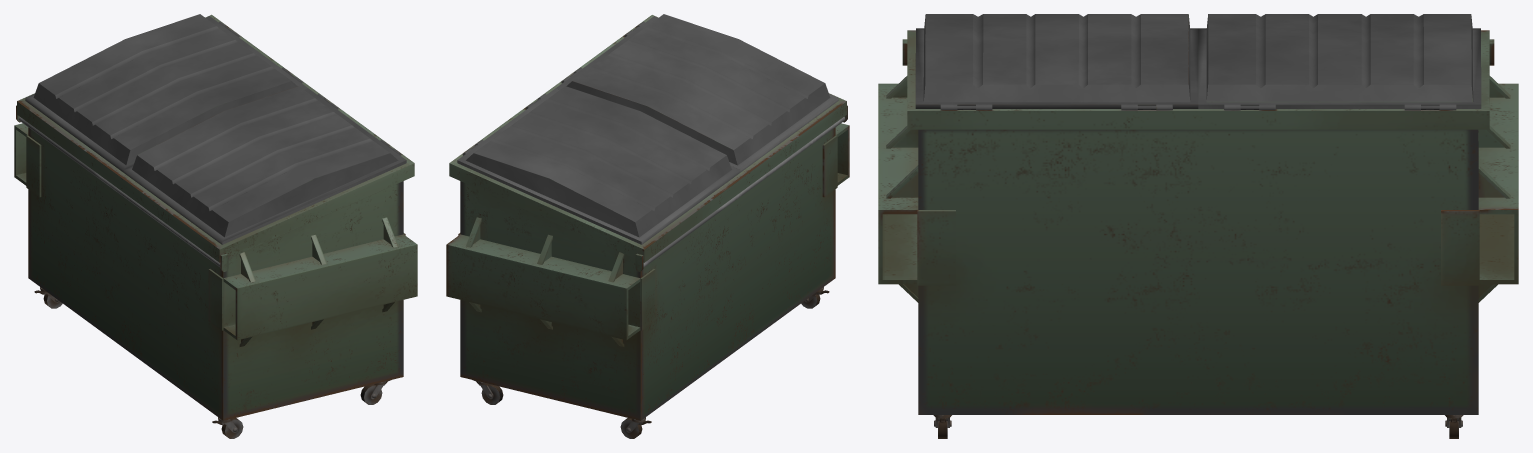
The model's file is TLRContainer.fbx.
3 renders of one model, left to right at view 1: azimuth 30°, elevation 25°; view 2: azimuth 150°, elevation 25°; view 3: azimuth 270°, elevation 25°, orthographic. The views are drawn at different scales.
Parts seen in each view (by area): view 1: Container, KlepRContainer, KlepLContainer, Wheel2, Wheel1; view 2: Container, KlepLContainer, KlepRContainer, Wheel3, Wheel4; view 3: Container, KlepRContainer, KlepLContainer.
Part boxes in pixels (x1,y1,x2,y2): Container: (14,14,417,420); KlepRContainer: (124,86,406,244); KlepLContainer: (25,14,307,172); Wheel2: (360,380,390,404); Wheel1: (212,417,243,438); Container: (446,15,849,420); KlepLContainer: (457,86,740,244); KlepRContainer: (556,14,838,172); Wheel3: (473,380,503,404); Wheel4: (620,417,651,438); Container: (878,30,1518,414); KlepRContainer: (915,14,1198,108); KlepLContainer: (1198,14,1481,108).
Size of the model in its own units: 79.32 by 97.98 by 157.
